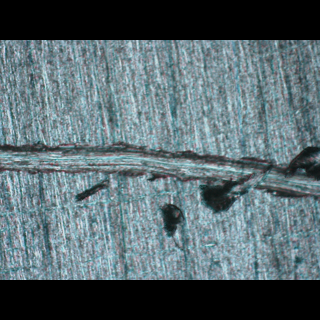d: (0, 129, 319, 245)
